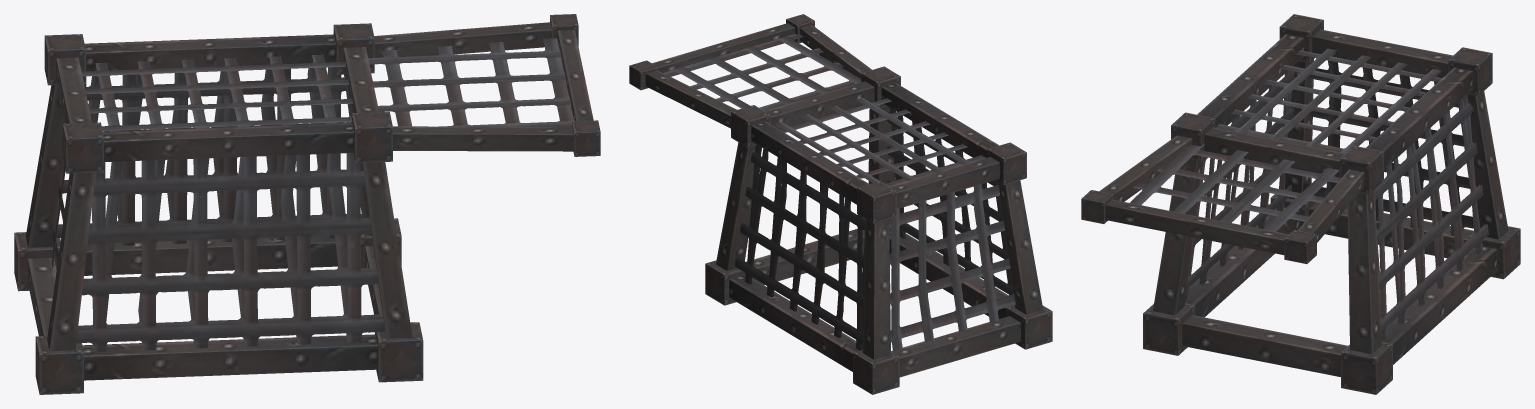
Rendered from slime_trap.FBX.
The picture shows the model from 3 angles, left to right: view 1: azimuth 30°, elevation 25°; view 2: azimuth 150°, elevation 25°; view 3: azimuth 270°, elevation 25°; orthographic projection. The views are drawn at different scales.
Visible parts, largest first — view 1: Object021; view 2: Object021; view 3: Object021.
Part boxes in pixels (<box>): Object021: <box>14,14,600,394</box>; Object021: <box>629,14,1052,394</box>; Object021: <box>1081,14,1520,394</box>.
Bounding box in the file's own units: 1.17 × 0.5008 × 0.9167.
